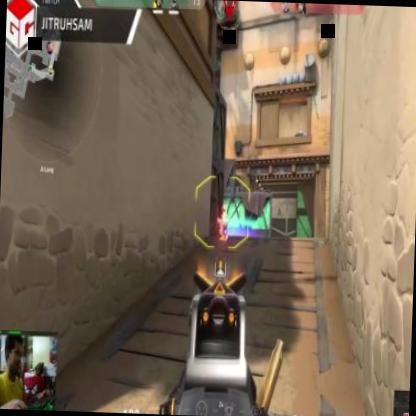enemy: (217, 205, 228, 240)
enemy_head: (221, 206, 226, 214)
